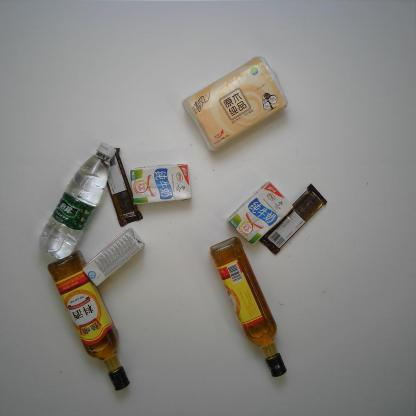Chocolate: (258, 182, 328, 254), (95, 145, 143, 228)
Drink: (37, 138, 120, 262)
Milk: (225, 181, 296, 248), (82, 225, 145, 287), (128, 162, 194, 207)
Seasoner: (46, 250, 133, 394), (209, 236, 288, 378)
Tissue: (179, 53, 289, 154)
